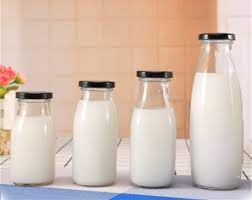milk: (189, 30, 243, 186), (130, 65, 177, 190), (70, 77, 118, 187), (9, 88, 59, 183)
